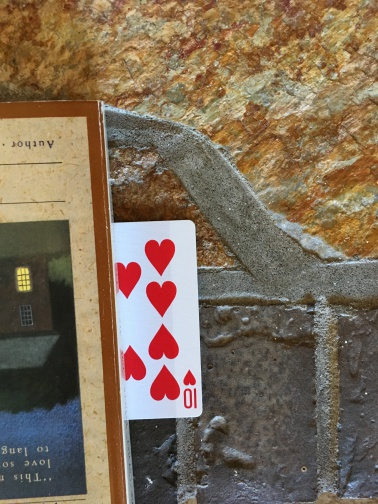ten: (107, 218, 204, 418)
